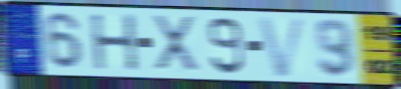6: (43, 11, 85, 71)
9: (313, 17, 356, 80), (206, 16, 245, 75)
H: (88, 13, 141, 72)
V: (255, 16, 310, 79)
X: (150, 13, 201, 75)
